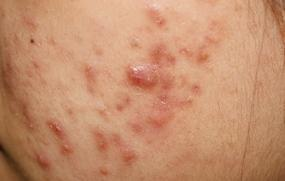cystic: (126, 61, 157, 94)
papular: (119, 147, 141, 168), (92, 134, 114, 155), (153, 115, 171, 130)
purulent: (35, 151, 55, 176)
sebo-crystan-conglo: (49, 112, 68, 144)
